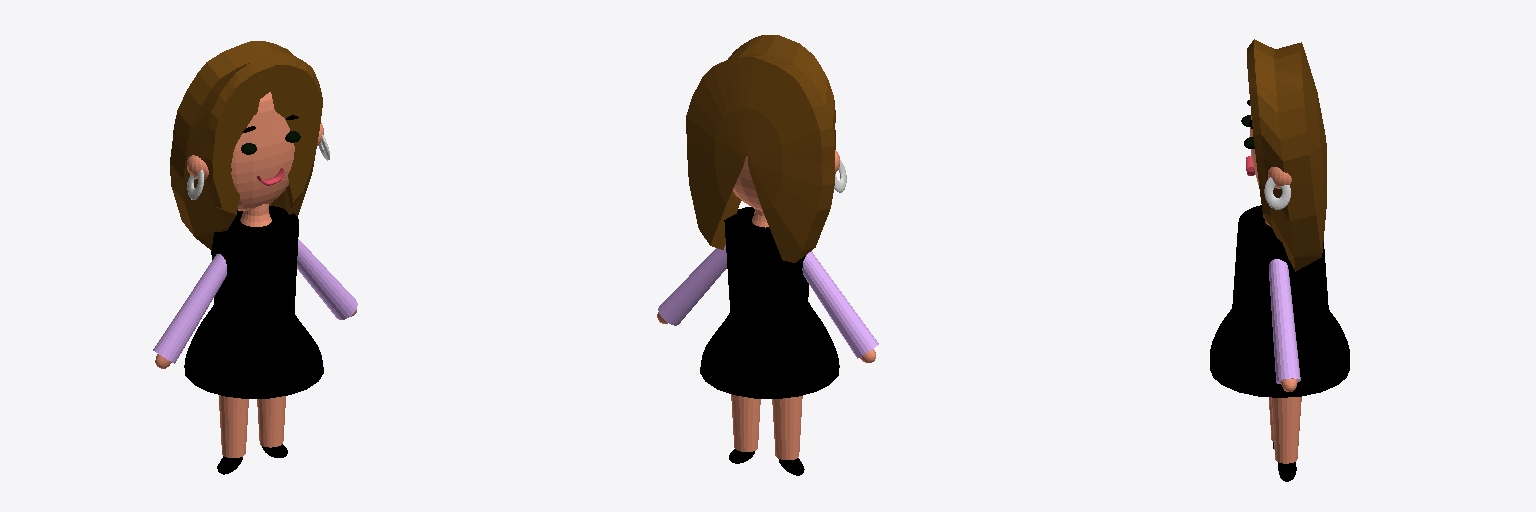
File: JoTry1.obj
3 renders of one model, left to right at view 1: azimuth 30°, elevation 25°; view 2: azimuth 150°, elevation 25°; view 3: azimuth 270°, elevation 25°, orthographic.
Visible parts, largest first — view 1: polySurface1 all, all pCylinder3, all AndyTRY2:AllBASIC AndyTRY2:body, all AndyTRY2:AllBASIC AndyTRY2:face1 AndyTRY2:group1, all AndyTRY2:AllBASIC AndyTRY2:arm2 pCylinder2 group1, all AndyTRY2:AllBASIC AndyTRY2:arm2 AndyTRY2:pCylinder2, all AndyTRY2:AllBASIC AndyTRY2:Leg2 AndyTRY2:pCylinder4, all AndyTRY2:AllBASIC AndyTRY2:Leg1 AndyTRY2:pCylinder4; view 2: polySurface1 all, all pCylinder3, all AndyTRY2:AllBASIC AndyTRY2:body, all AndyTRY2:AllBASIC AndyTRY2:arm2 pCylinder2 group1, all AndyTRY2:AllBASIC AndyTRY2:arm2 AndyTRY2:pCylinder2, all AndyTRY2:AllBASIC AndyTRY2:Leg2 AndyTRY2:pCylinder4, all AndyTRY2:AllBASIC AndyTRY2:Leg1 AndyTRY2:pCylinder4, all AndyTRY2:AllBASIC AndyTRY2:face1 AndyTRY2:group1; view 3: polySurface1 all, all pCylinder3, all AndyTRY2:AllBASIC AndyTRY2:body, all AndyTRY2:AllBASIC AndyTRY2:arm2 AndyTRY2:pCylinder2, all AndyTRY2:AllBASIC AndyTRY2:Leg1 AndyTRY2:pCylinder4.
Boxes of the visible parts, x1,y1,x2,y2 form: polySurface1 all: [170, 41, 322, 250]; all pCylinder3: [184, 305, 323, 398]; all AndyTRY2:AllBASIC AndyTRY2:body: [211, 206, 298, 328]; all AndyTRY2:AllBASIC AndyTRY2:face1 AndyTRY2:group1: [231, 92, 294, 210]; all AndyTRY2:AllBASIC AndyTRY2:arm2 pCylinder2 group1: [153, 254, 226, 363]; all AndyTRY2:AllBASIC AndyTRY2:arm2 AndyTRY2:pCylinder2: [297, 239, 357, 319]; all AndyTRY2:AllBASIC AndyTRY2:Leg2 AndyTRY2:pCylinder4: [219, 395, 248, 457]; all AndyTRY2:AllBASIC AndyTRY2:Leg1 AndyTRY2:pCylinder4: [257, 396, 285, 447]; polySurface1 all: [686, 35, 835, 262]; all pCylinder3: [700, 301, 839, 398]; all AndyTRY2:AllBASIC AndyTRY2:body: [724, 207, 808, 332]; all AndyTRY2:AllBASIC AndyTRY2:arm2 pCylinder2 group1: [802, 251, 878, 358]; all AndyTRY2:AllBASIC AndyTRY2:arm2 AndyTRY2:pCylinder2: [658, 245, 726, 325]; all AndyTRY2:AllBASIC AndyTRY2:Leg2 AndyTRY2:pCylinder4: [772, 396, 802, 459]; all AndyTRY2:AllBASIC AndyTRY2:Leg1 AndyTRY2:pCylinder4: [731, 394, 760, 451]; all AndyTRY2:AllBASIC AndyTRY2:face1 AndyTRY2:group1: [733, 156, 762, 210]; polySurface1 all: [1247, 39, 1326, 271]; all pCylinder3: [1210, 309, 1349, 397]; all AndyTRY2:AllBASIC AndyTRY2:body: [1232, 205, 1328, 322]; all AndyTRY2:AllBASIC AndyTRY2:arm2 AndyTRY2:pCylinder2: [1269, 259, 1300, 383]; all AndyTRY2:AllBASIC AndyTRY2:Leg1 AndyTRY2:pCylinder4: [1271, 397, 1301, 463].
Bounding box in the file's own units: 3.83 × 7.35 × 2.22.